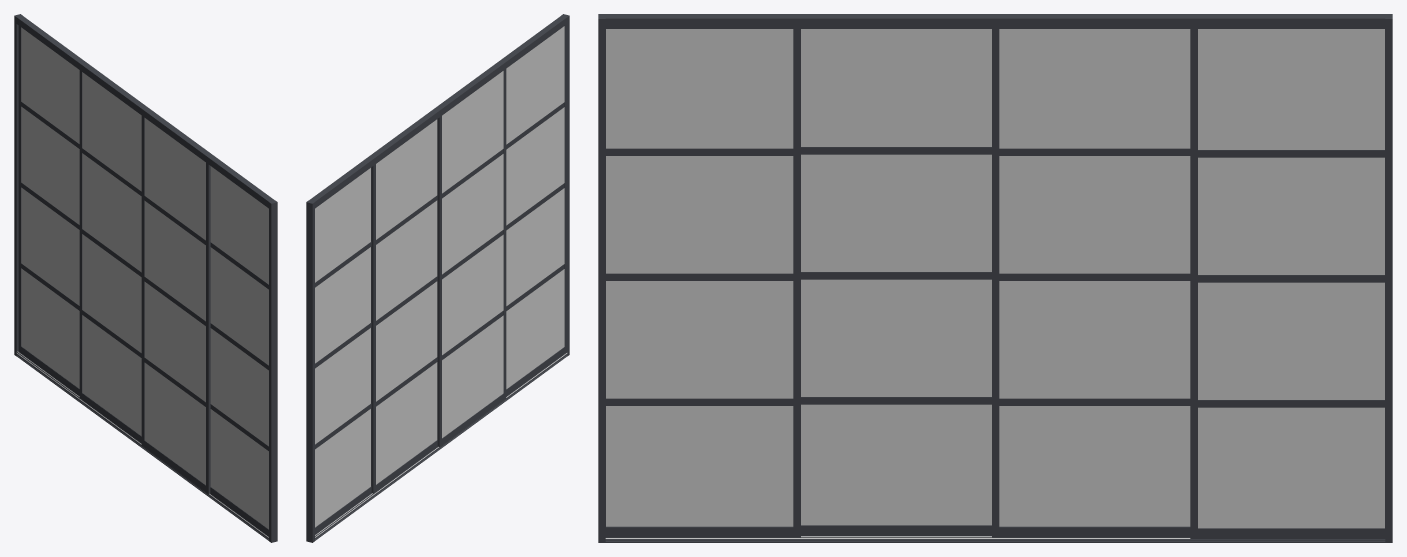
Rendered from nebbiolo_steel_door_left_400_350.glb.
3 views of the same model, side by side, from view 1: azimuth 30°, elevation 25°; view 2: azimuth 150°, elevation 25°; view 3: azimuth 270°, elevation 25° (orthographic). The views are drawn at different scales.
Visible parts, largest first — view 1: steel_door_left_400_350; view 2: steel_door_left_400_350; view 3: steel_door_left_400_350.
Boxes of the visible parts, bbox=[...] form: steel_door_left_400_350: bbox=[14, 14, 277, 542]; steel_door_left_400_350: bbox=[306, 14, 569, 542]; steel_door_left_400_350: bbox=[598, 14, 1392, 542].
Bounding box in the file's own units: 0.0501 × 2.5 × 3.43.
Materials: 3 (1 with a texture image).
